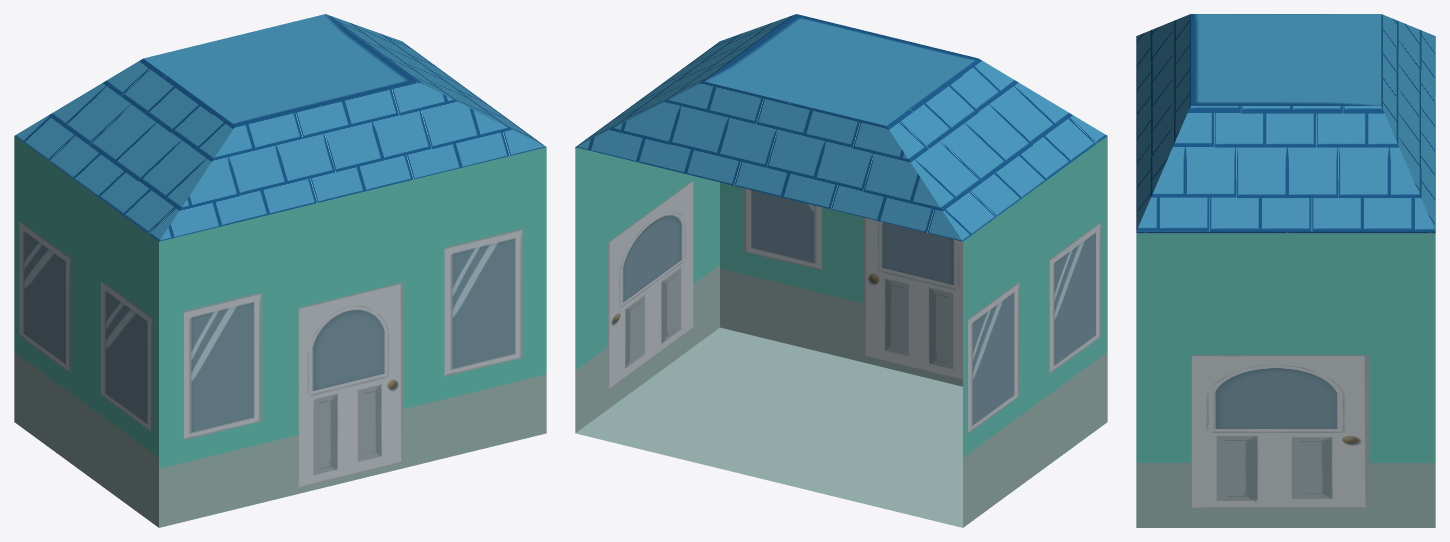
File: HouseNoBack.FBX
The picture shows the model from 3 angles, left to right: view 1: azimuth 30°, elevation 25°; view 2: azimuth 150°, elevation 25°; view 3: azimuth 270°, elevation 25°; orthographic projection. The views are drawn at different scales.
Visible parts, largest first — view 1: houseNoBack; view 2: houseNoBack; view 3: houseNoBack.
Boxes of the visible parts, left/top/right/bottom form: houseNoBack: left=14, top=14, right=546, bottom=527; houseNoBack: left=575, top=14, right=1107, bottom=527; houseNoBack: left=1136, top=14, right=1435, bottom=527.
Size of the model in its own units: 101 by 88.7 by 65.02.
Materials: 1 (1 with a texture image).
